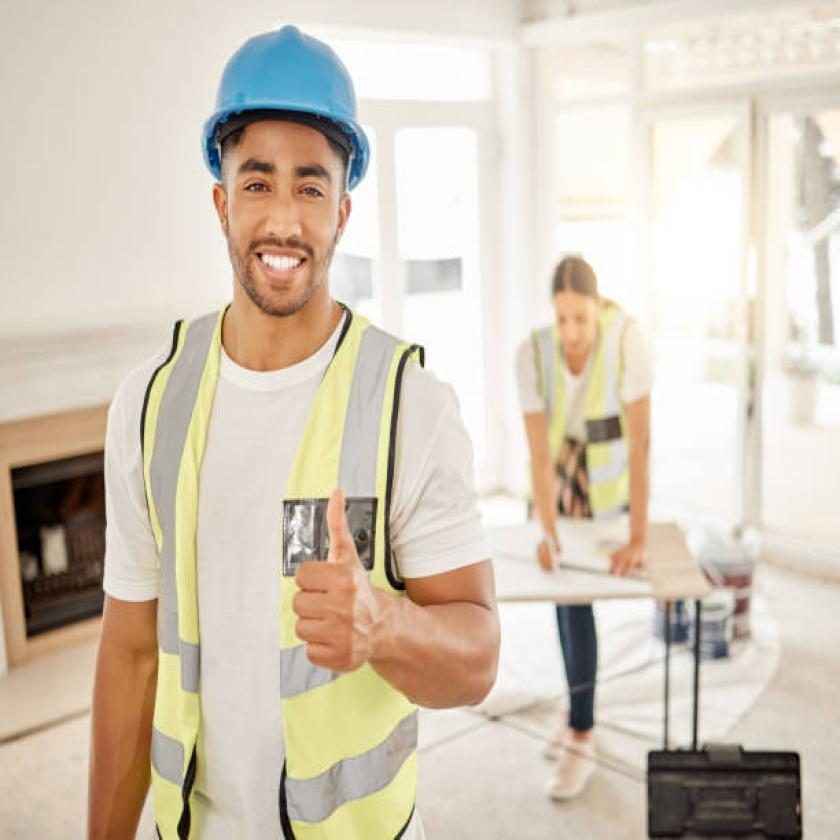Con_casco: (198, 8, 390, 333)
Sin_casco: (539, 233, 621, 368)
